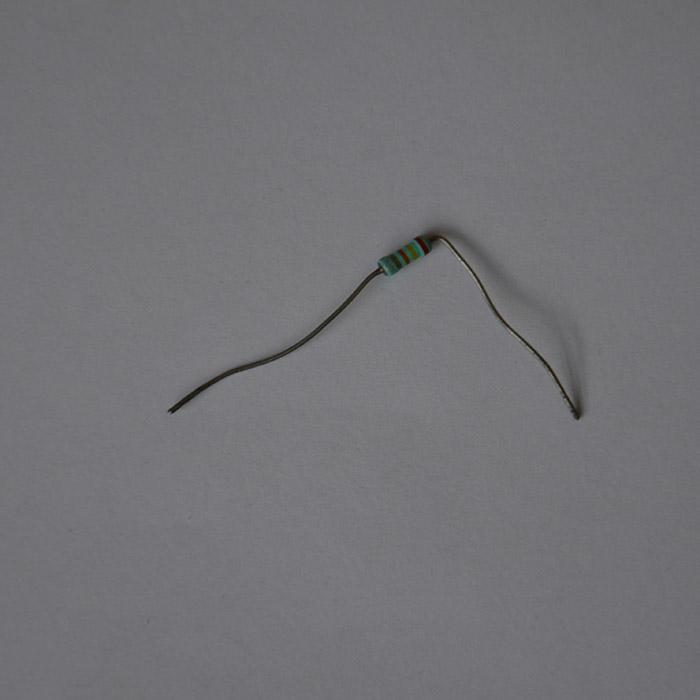resistor: (378, 234, 431, 276)
